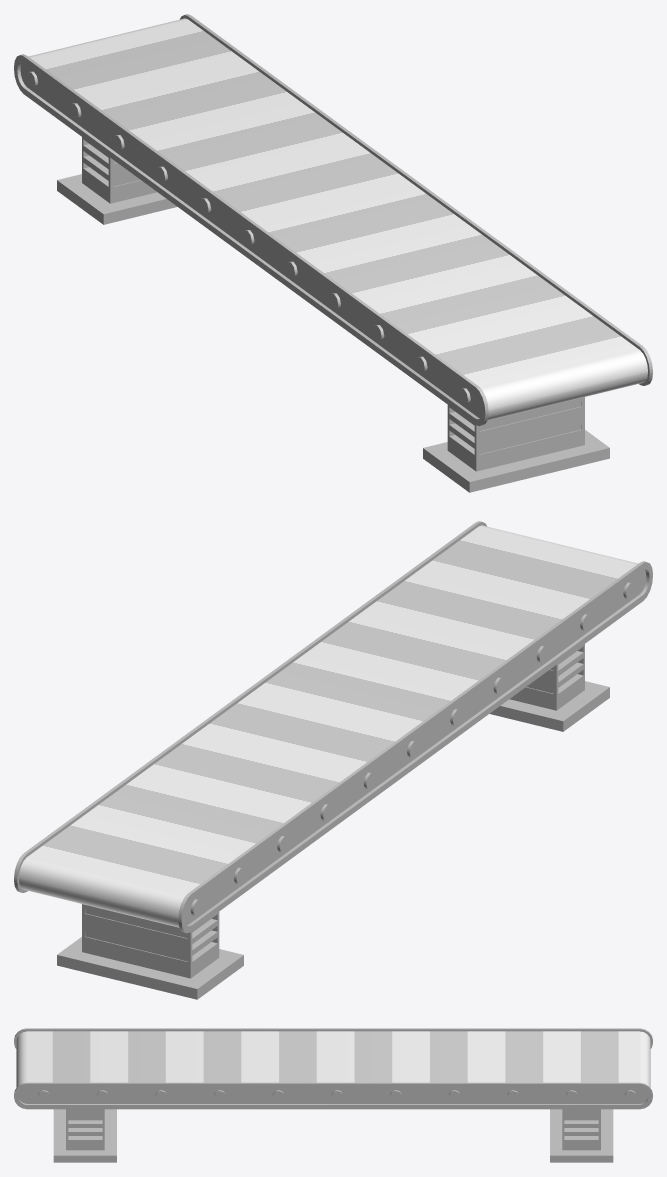
Rendered from Conveyor_Long.fbx.
3 views of the same model, one above another, from view 1: azimuth 30°, elevation 25°; view 2: azimuth 150°, elevation 25°; view 3: azimuth 270°, elevation 25° (orthographic). The views are drawn at different scales.
Parts seen in each view (by area): view 1: PaletArrow.010, PaletSide.010, UnderPalet.010; view 2: PaletArrow.010, PaletSide.010, UnderPalet.010; view 3: PaletArrow.010, PaletSide.010, UnderPalet.010.
Boxes of the visible parts, bbox=[...] form: PaletArrow.010: bbox=[28, 18, 647, 420]; PaletSide.010: bbox=[14, 14, 652, 426]; UnderPalet.010: bbox=[57, 137, 609, 492]; PaletArrow.010: bbox=[19, 525, 638, 927]; PaletSide.010: bbox=[14, 521, 652, 933]; UnderPalet.010: bbox=[57, 644, 609, 999]; PaletArrow.010: bbox=[16, 1031, 650, 1087]; PaletSide.010: bbox=[14, 1028, 652, 1109]; UnderPalet.010: bbox=[53, 1109, 613, 1162].
Bounding box in the file's own units: 1.66 × 1.17 × 8.11.
